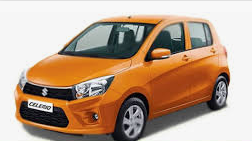car: (14, 13, 232, 140)
